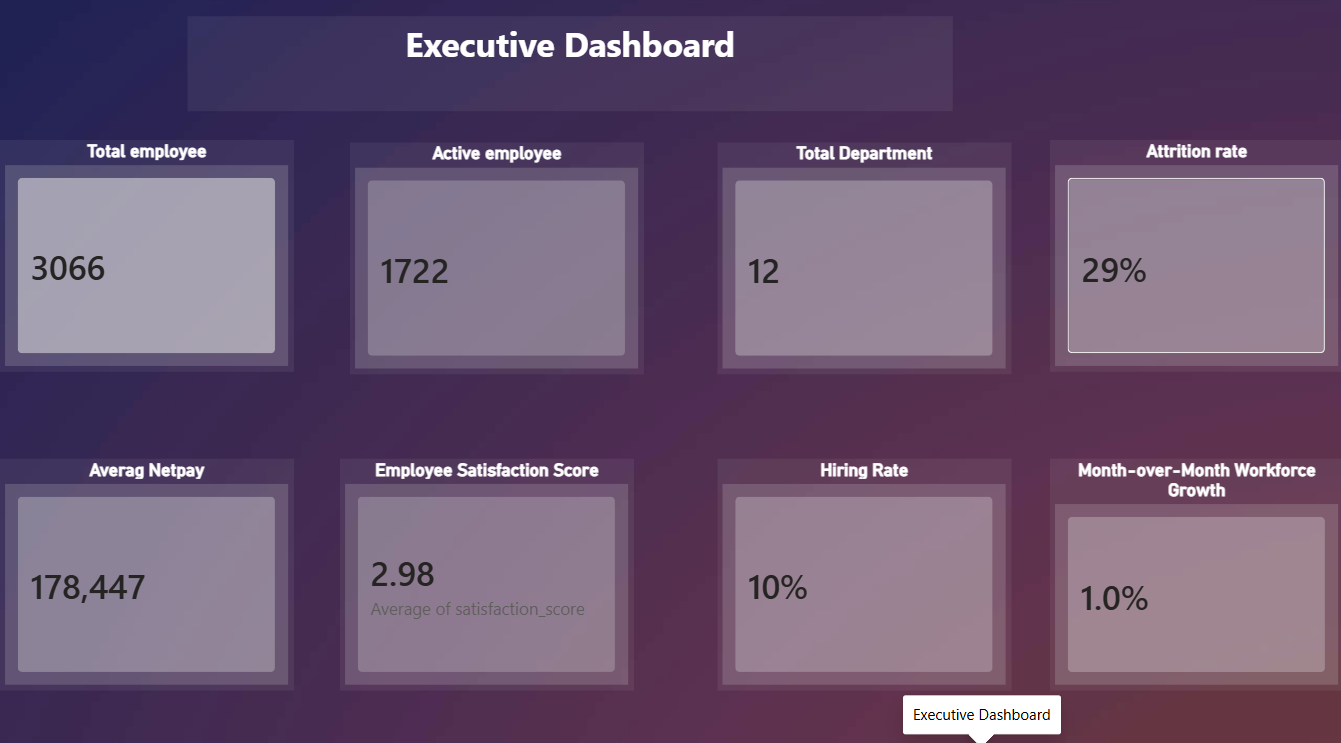

The page's visual inventory and layout, read from the dashboard file:
{"tool":"powerbi","page":{"name":"Executive Dashboard","canvas":[1280,720],"ordinal":5},"visuals":[{"type":"cardVisual","title":"Total employee","fields":{"Data":["clean_payroll.Total Employees1"]},"box":[0,138.6,279.9,220.9],"z":0},{"type":"cardVisual","title":"Total Department","fields":{"Data":["CountNonNull(cleaned_departments.department_id)"]},"box":[683.4,140,279.9,220.9],"z":1000},{"type":"cardVisual","title":"Employee Satisfaction Score","fields":{"Data":["Avg(cleaned_employees.satisfaction_score)"]},"box":[323.8,441.9,279.9,220.9],"z":2000},{"type":"cardVisual","title":"Averag Netpay","fields":{"Data":["Avg(clean_payroll.net_pay)"]},"box":[0,441.9,279.9,220.9],"z":3000},{"type":"cardVisual","title":"Month-over-Month Workforce Growth","fields":{"Data":["clean_payroll.MoM Workforce Growth"]},"box":[1000.3,441.9,279.9,220.9],"z":4000},{"type":"cardVisual","title":"Attrition rate","fields":{"Data":["clean_payroll.Attrition Rate"]},"box":[1000.3,138.6,279.9,220.9],"z":5000},{"type":"cardVisual","title":"Hiring Rate","fields":{"Data":["clean_payroll.Hiring Rate"]},"box":[683.4,441.9,279.9,220.9],"z":6000},{"type":"cardVisual","title":"Active employee","fields":{"Data":["clean_payroll.Active Employees"]},"box":[333.4,140,279.9,220.9],"z":7000},{"type":"textbox","box":[178.4,20.6,728.6,90.6],"z":8000}]}

Visuals, with their boxes in screenshot pixels (x1, y1, x2, y2), scaled from the page's 1280x720 canvas onto the 1341x743 screenshot:
"Total employee" cardVisual: [left=0, top=143, right=293, bottom=371]
"Total Department" cardVisual: [left=716, top=144, right=1009, bottom=372]
"Employee Satisfaction Score" cardVisual: [left=339, top=456, right=632, bottom=684]
"Averag Netpay" cardVisual: [left=0, top=456, right=293, bottom=684]
"Month-over-Month Workforce Growth" cardVisual: [left=1048, top=456, right=1340, bottom=684]
"Attrition rate" cardVisual: [left=1048, top=143, right=1340, bottom=371]
"Hiring Rate" cardVisual: [left=716, top=456, right=1009, bottom=684]
"Active employee" cardVisual: [left=349, top=144, right=643, bottom=372]
textbox: [left=187, top=21, right=950, bottom=115]
